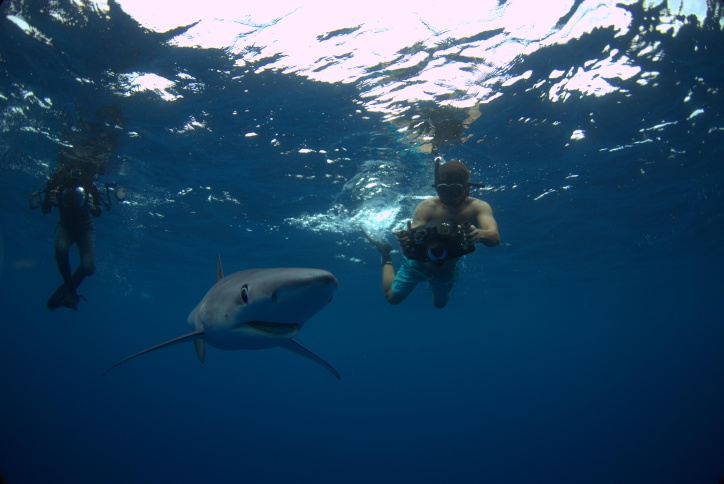Azul: (83, 255, 384, 402)
